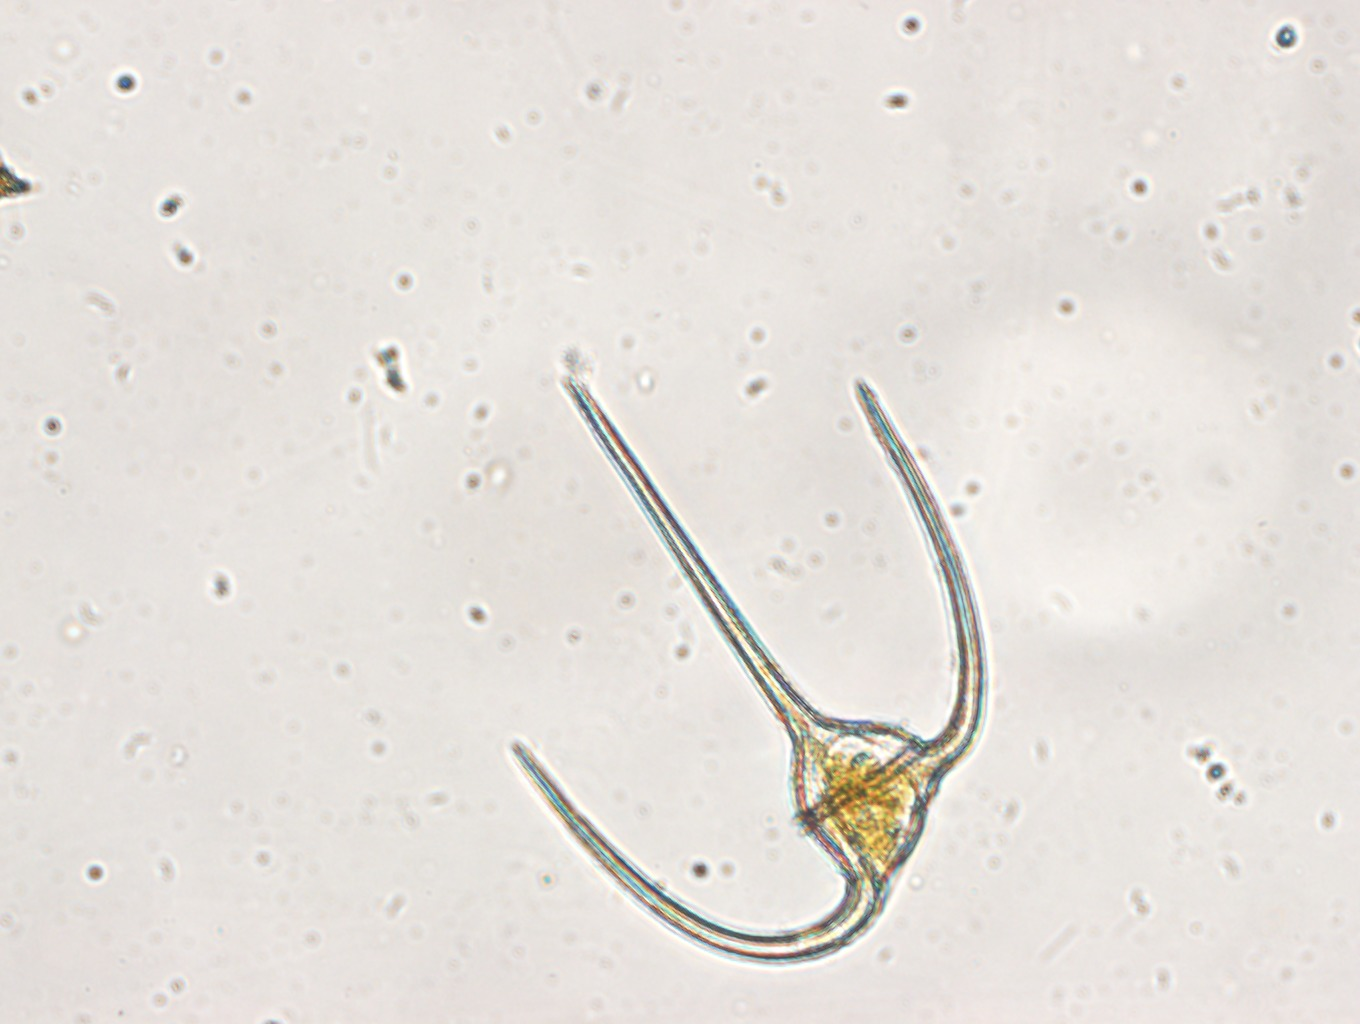ceratium trichoceros: (481, 358, 989, 968)
